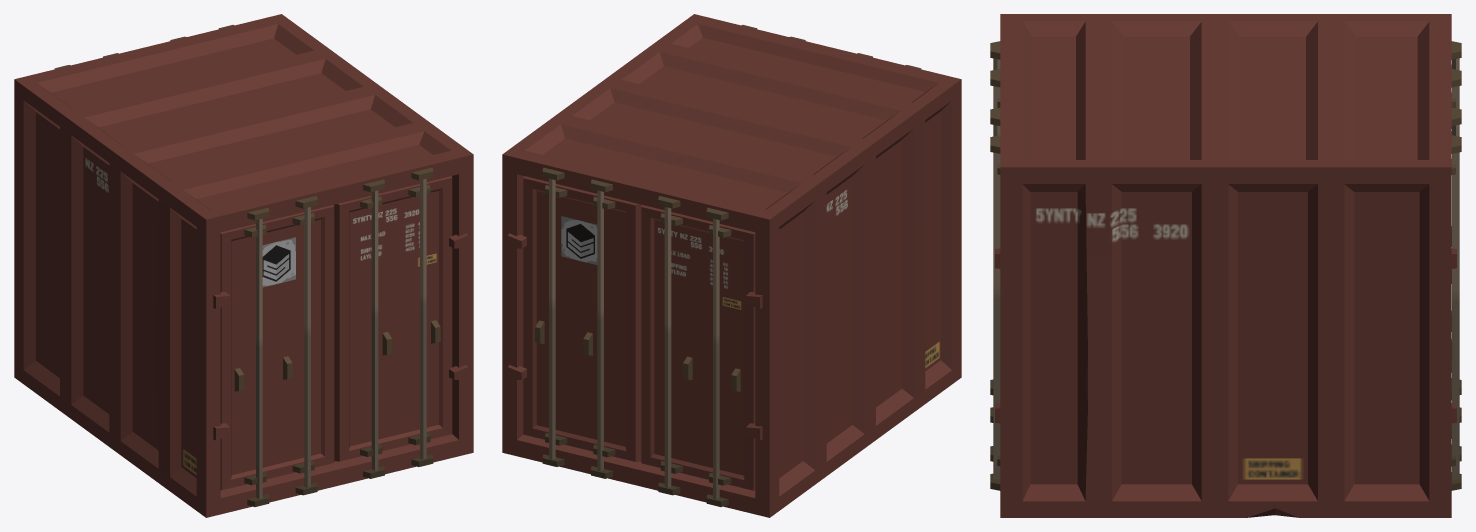
File: SM_Prop_Shipping_Container_Small_01.glb
The picture shows the model from 3 angles, left to right: view 1: azimuth 30°, elevation 25°; view 2: azimuth 150°, elevation 25°; view 3: azimuth 270°, elevation 25°; orthographic projection. The views are drawn at different scales.
Visible parts, largest first — view 1: SM_Prop_Shipping_Container_Small_01; view 2: SM_Prop_Shipping_Container_Small_01; view 3: SM_Prop_Shipping_Container_Small_01.
Part boxes in pixels (bbox=[...]): SM_Prop_Shipping_Container_Small_01: bbox=[14, 14, 473, 517]; SM_Prop_Shipping_Container_Small_01: bbox=[502, 14, 961, 517]; SM_Prop_Shipping_Container_Small_01: bbox=[990, 14, 1461, 517].
Size of the model in its own units: 2.45 by 2.59 by 3.15.
Materials: 1 (1 with a texture image).
